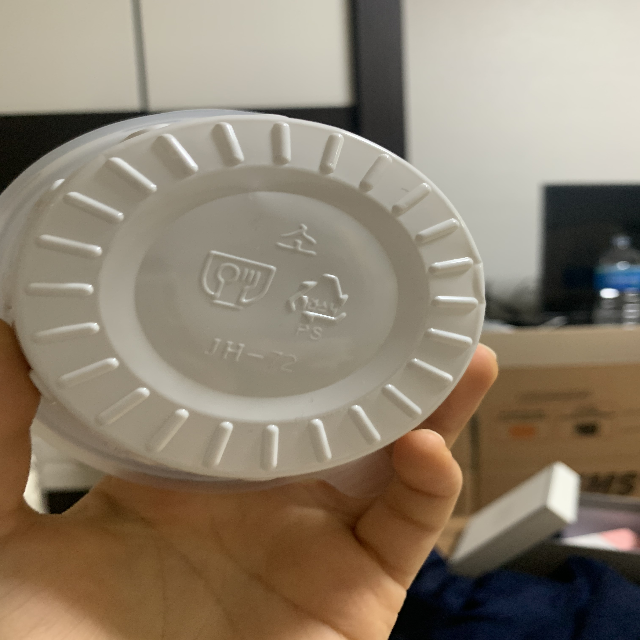ps: (283, 265, 353, 341)
